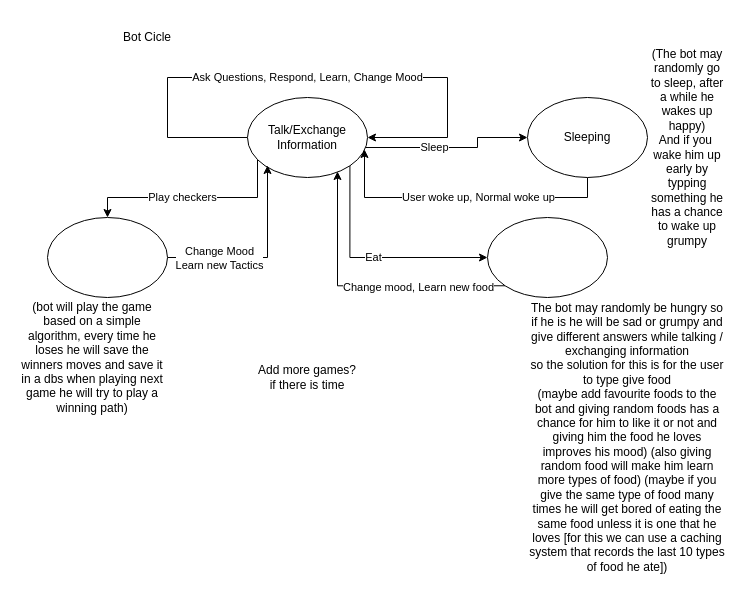
Image size: 744x594. Some labels were removed from this diagram. Here are the shapes that lost their labels. From the top down, the box of each, then its label:
(46, 216, 168, 298): Game of checkers
(486, 216, 608, 298): Eating
